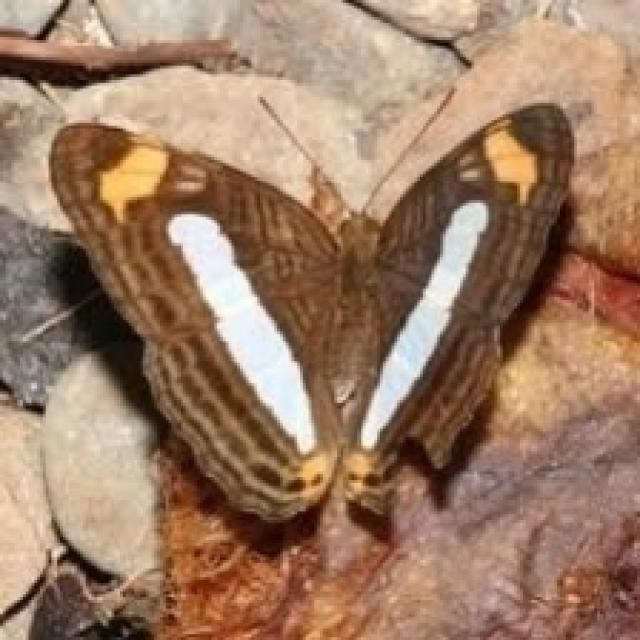butterfly: (46, 83, 577, 528)
